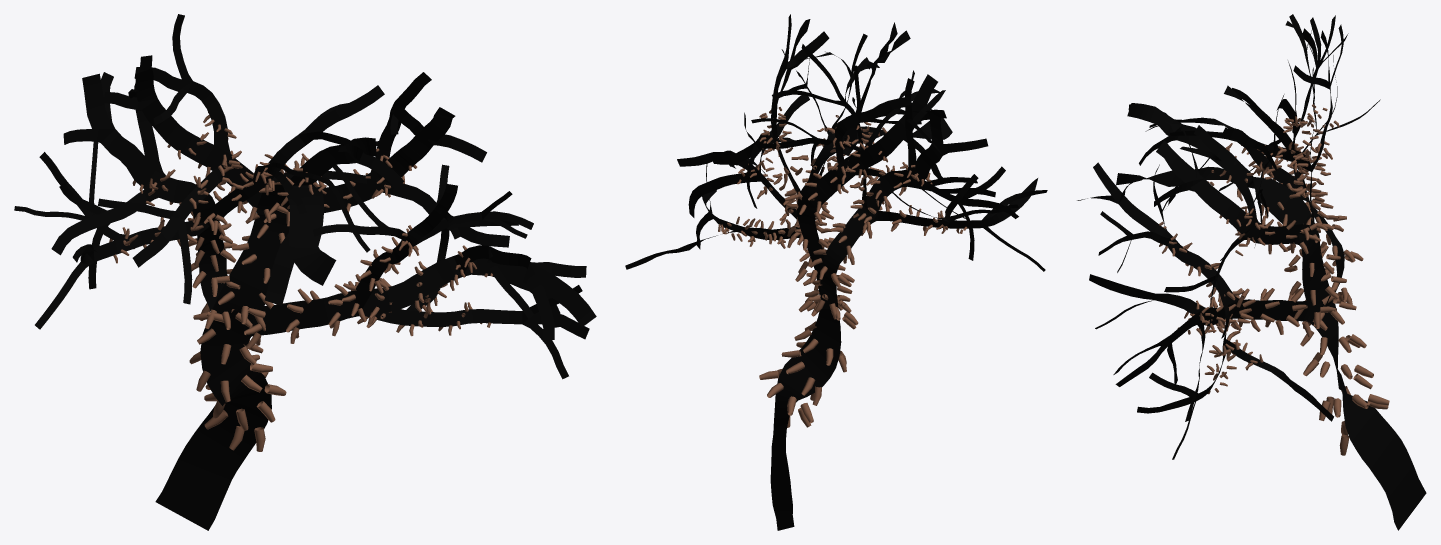
File: ThornyBush.obj
3 renders of one model, left to right at view 1: azimuth 30°, elevation 25°; view 2: azimuth 150°, elevation 25°; view 3: azimuth 270°, elevation 25°, orthographic. The views are drawn at different scales.
Parts seen in each view (by area): view 1: brambleThorny1MeshGroup brambleThorny1Main, brambleThorny1Flower brambleThorny1MeshGroup; view 2: brambleThorny1MeshGroup brambleThorny1Main, brambleThorny1Flower brambleThorny1MeshGroup; view 3: brambleThorny1MeshGroup brambleThorny1Main, brambleThorny1Flower brambleThorny1MeshGroup.
Part boxes in pixels (<box>): brambleThorny1MeshGroup brambleThorny1Main: <box>14,14,596,530</box>; brambleThorny1Flower brambleThorny1MeshGroup: <box>109,112,493,451</box>; brambleThorny1MeshGroup brambleThorny1Main: <box>625,14,1047,530</box>; brambleThorny1Flower brambleThorny1MeshGroup: <box>718,107,967,427</box>; brambleThorny1MeshGroup brambleThorny1Main: <box>1077,14,1426,530</box>; brambleThorny1Flower brambleThorny1MeshGroup: <box>1159,104,1389,455</box>.
Bounding box in the file's own units: 1.72 × 1.83 × 1.21.
